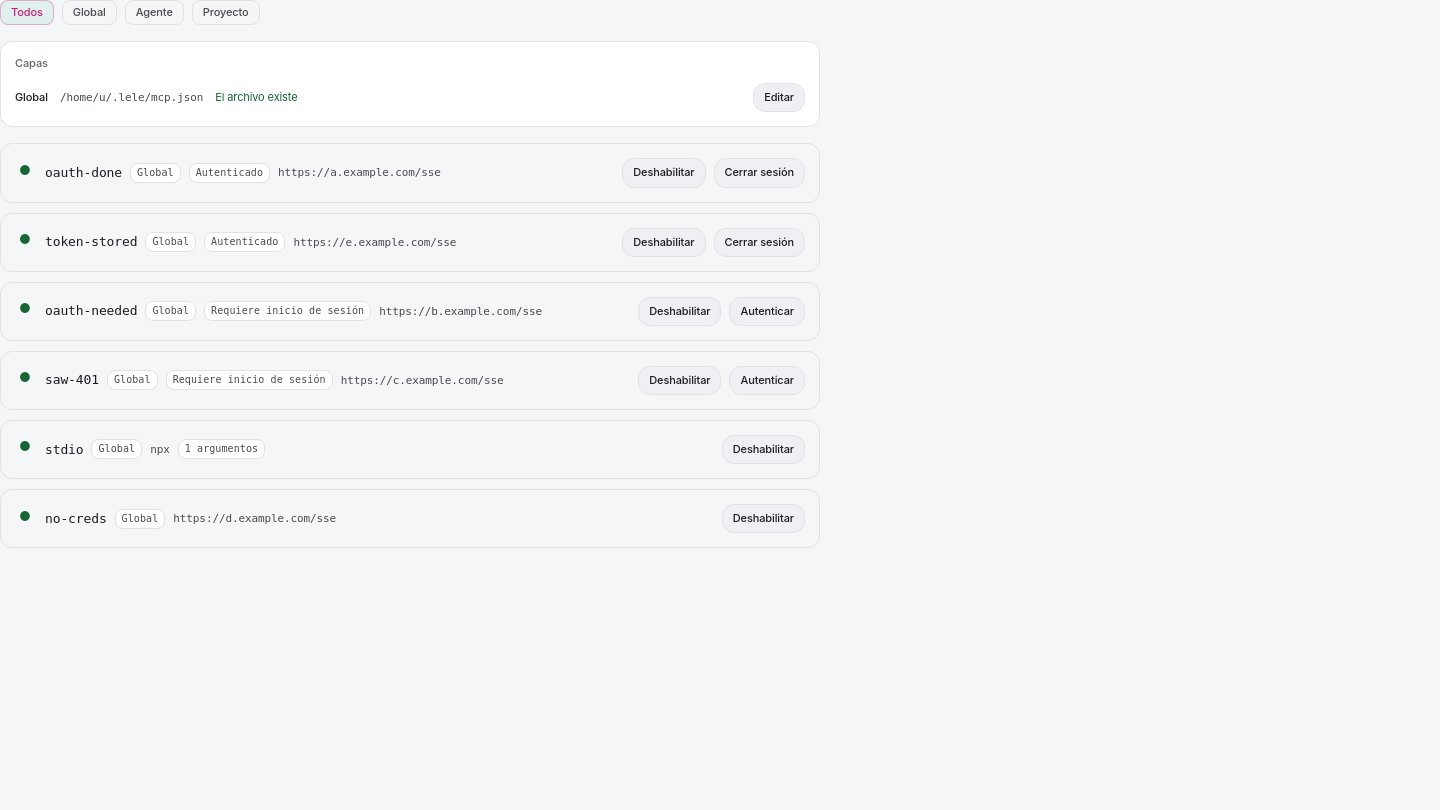
Test: AgentMCPSection — starting a flow › a 409 mcp_auth_not_required renders notRequired and NO paste box
Click the button "Autenticar" in the row of "https://b.example.com/sse": (767, 311) [730,297,805,326]
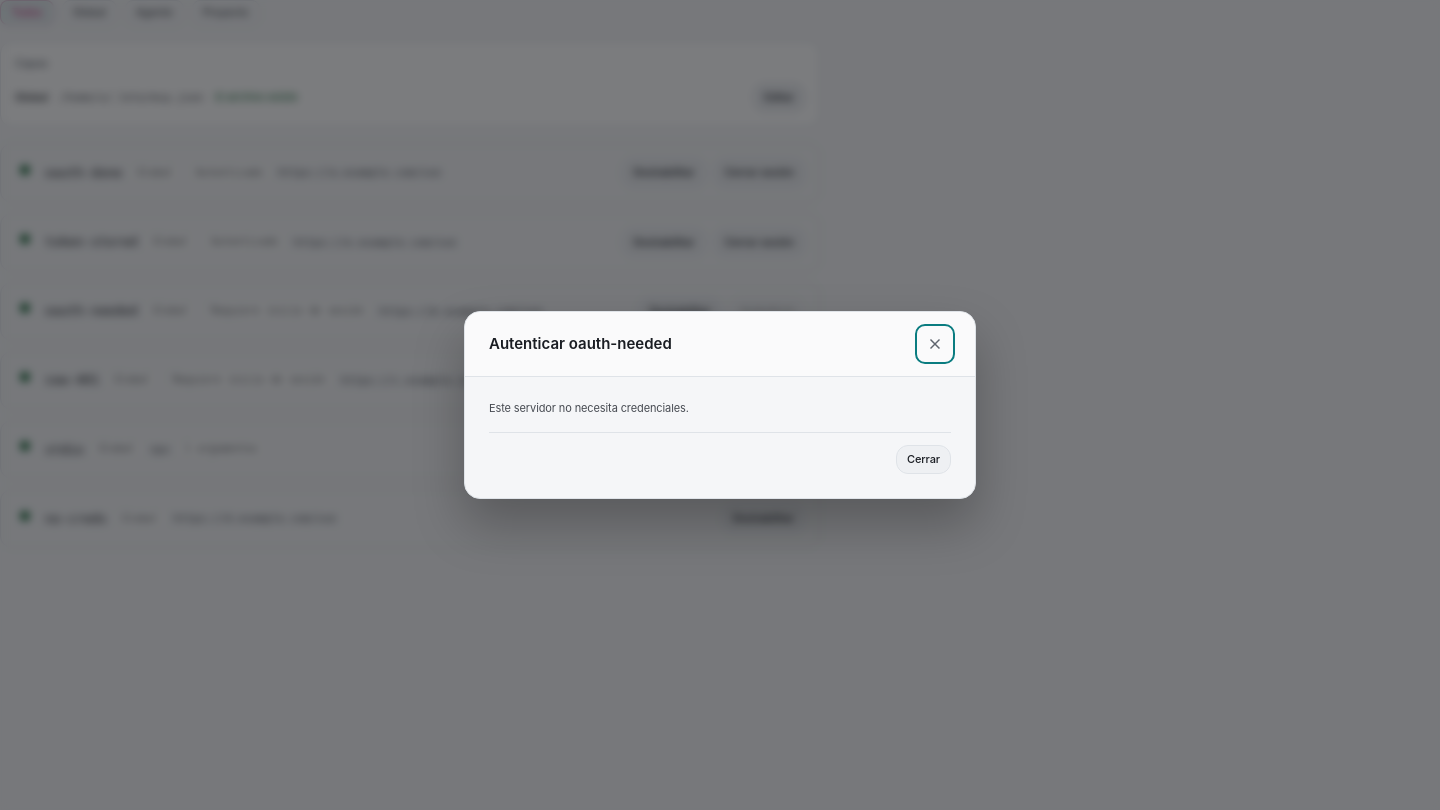
Now the text "Este servidor no necesita credenciales." is shown, box [489,401,689,415]
